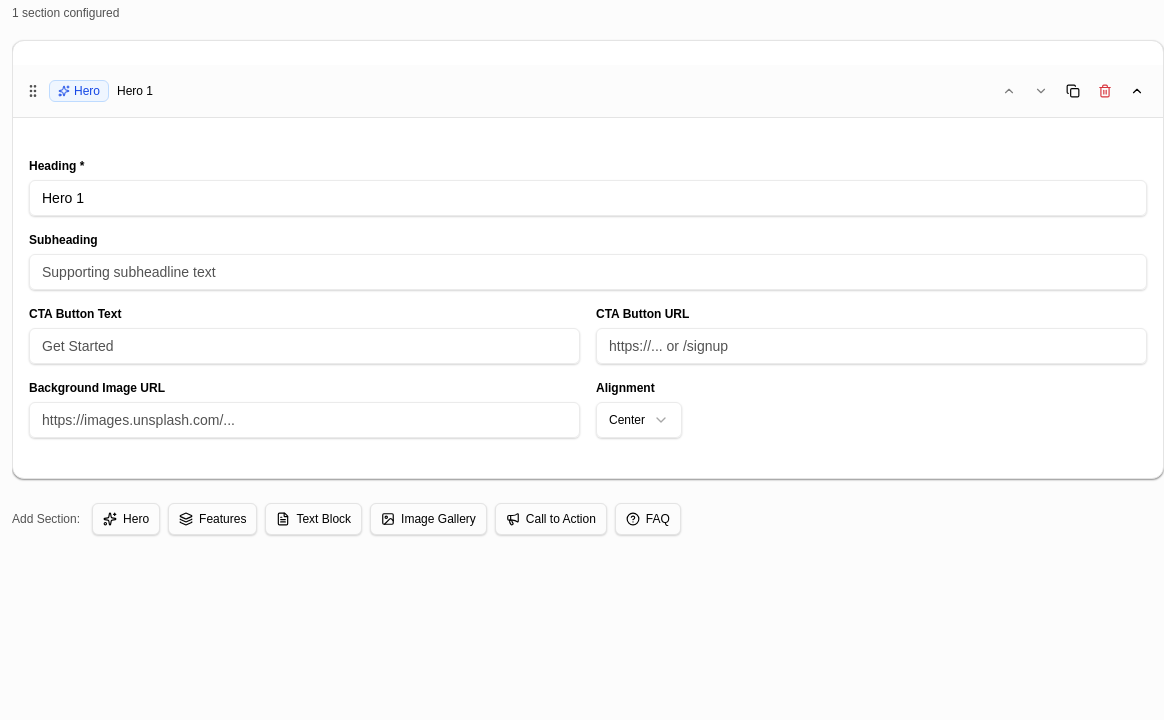
Test: SectionBuilder Field Renderer › collapses and expands section block
Check: the field with placeholder "Hero main headline" is shown, box [29,180,1147,216]
Click the button named "Collapse section".
click(1137, 91)  # box [1123,77,1151,105]
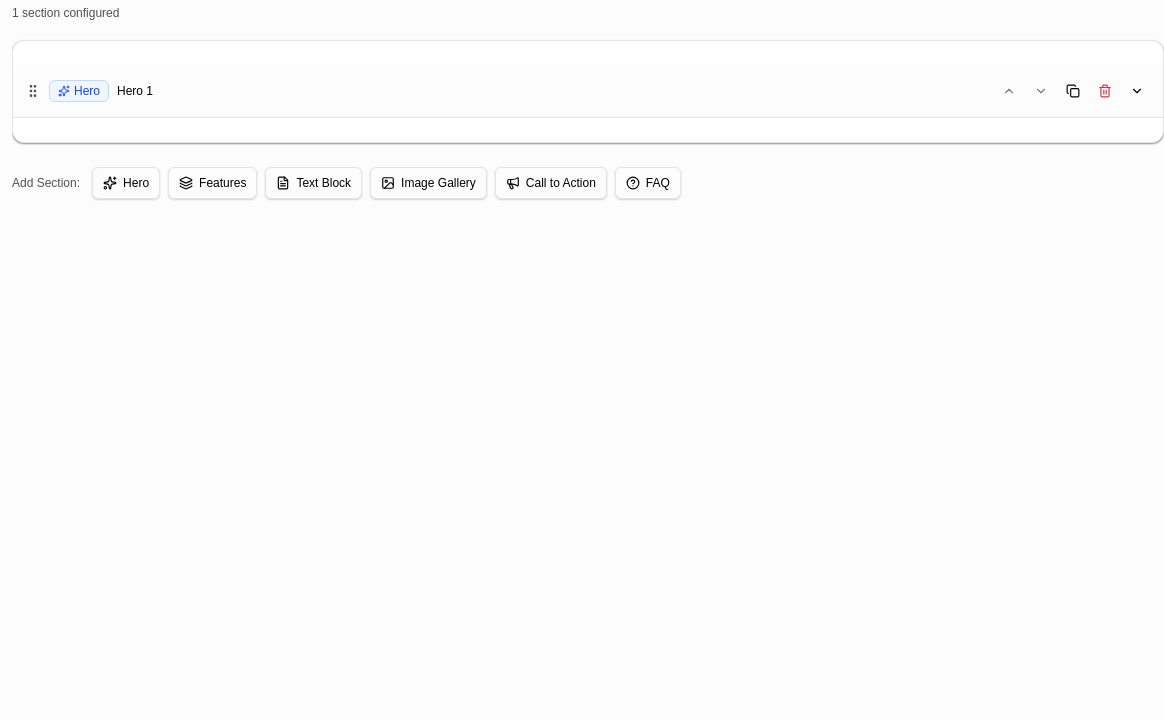
Note: Expand again
Click the button named "Expand section".
click(1137, 91)  # box [1123,77,1151,105]
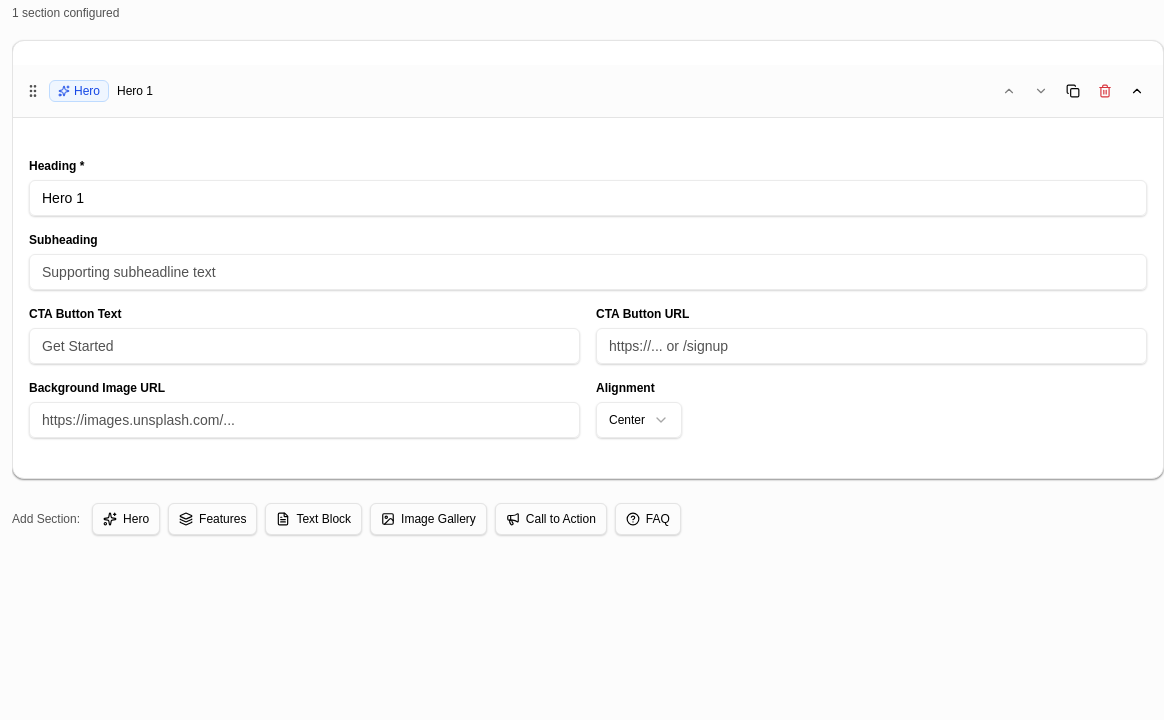
Check: the field with placeholder "Hero main headline" is shown, box [29,180,1147,216]
